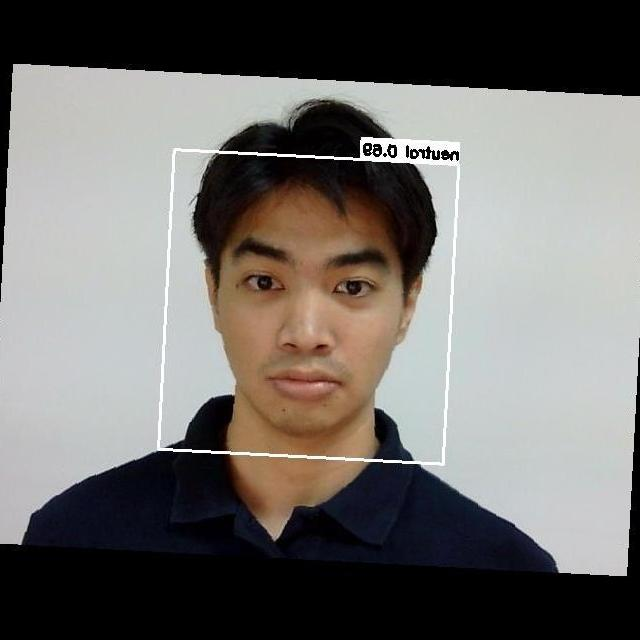Fear: (202, 218, 409, 420)
